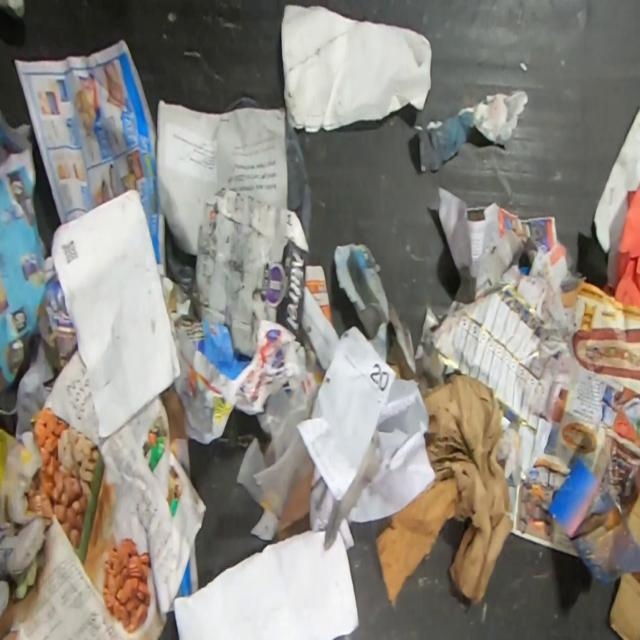cardboard: (190, 185, 311, 358), (374, 476, 460, 608), (592, 104, 640, 307), (609, 571, 640, 640), (627, 491, 640, 546)
rigid_plastic: (234, 387, 311, 518)
